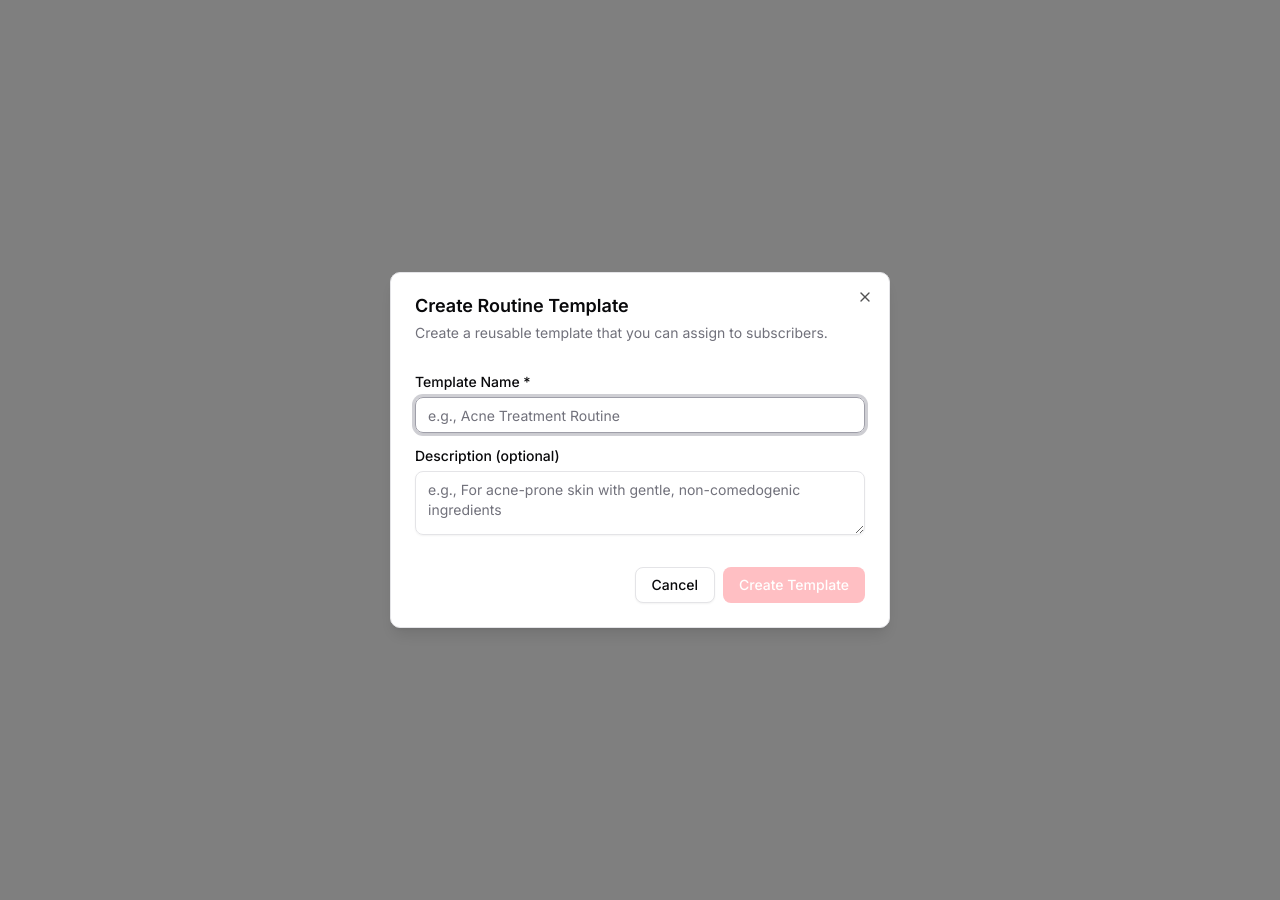
CreateTemplateDialog › user sees loading state during submission
Note: User fills in template name
Type "New Template" into the field labelled "Template Name *". click: (640, 415)
box: [415,397,865,433]
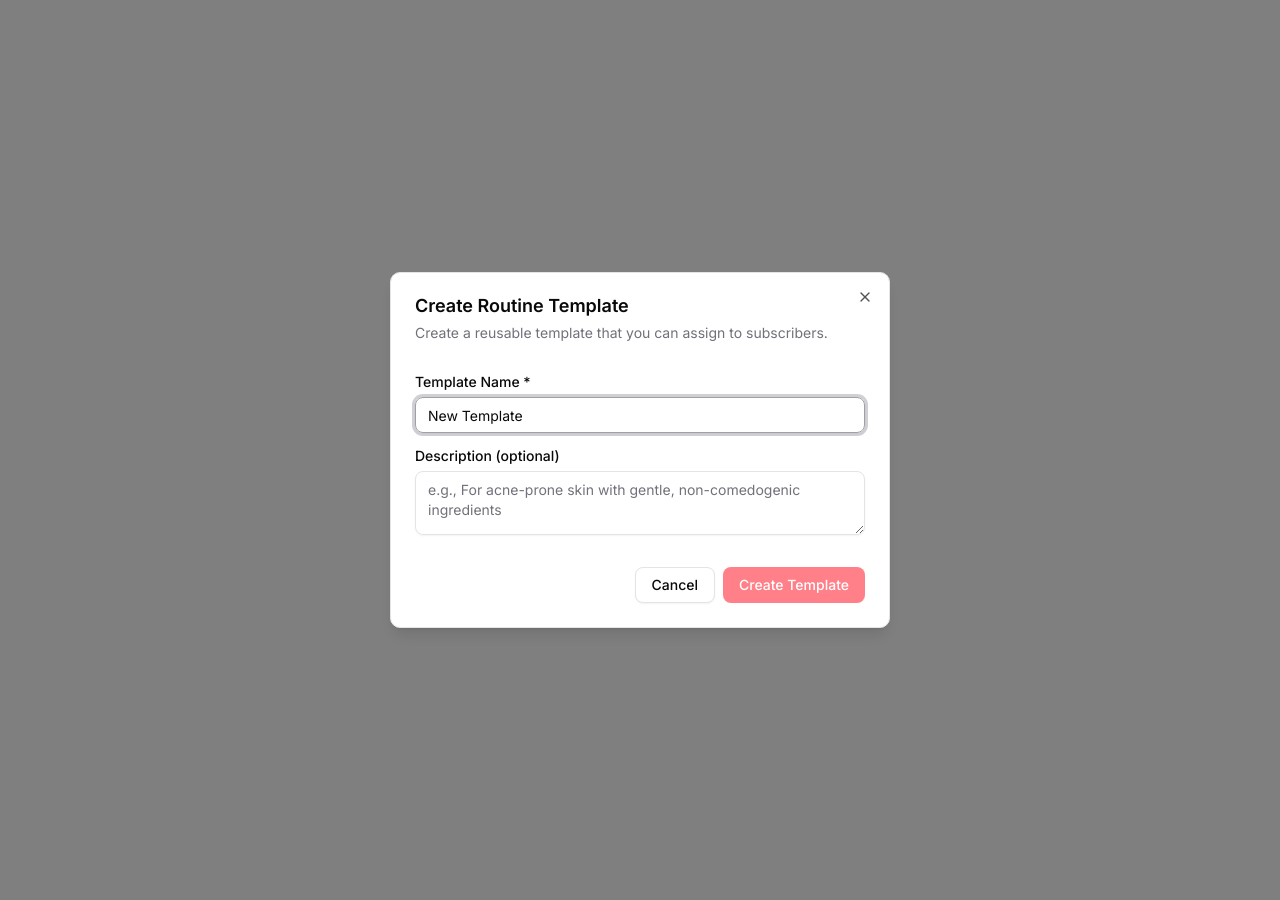
Click the button "Create Template". click: (794, 585)
box: [723,567,865,603]
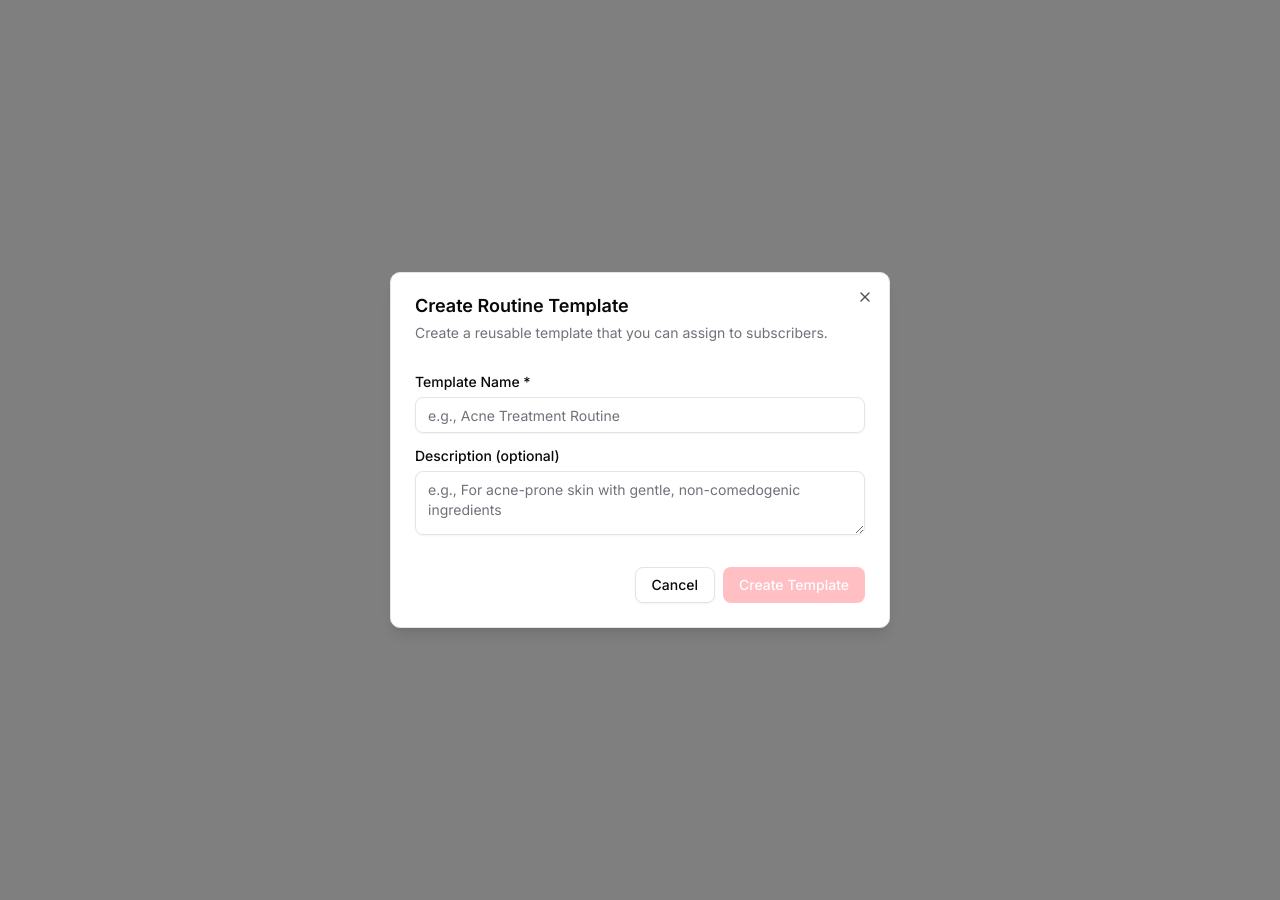
Expected: the button named "creating..." is disabled, [723,567,865,603]
